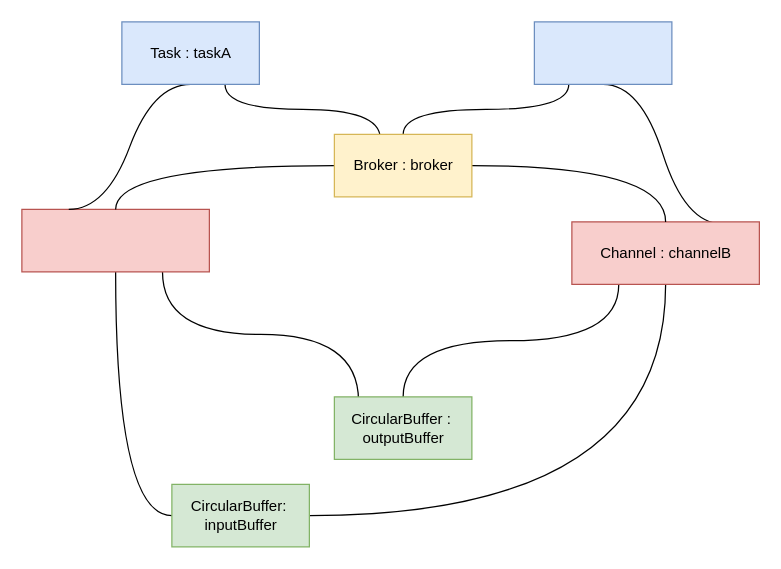
Image size: 781x569. Some labels were removed from this diagram. Here are the shapes that lost their labels. From the top down, the centre of each, then its label:
point 602,52: Task : taskB
point 115,240: Channel : channelA
